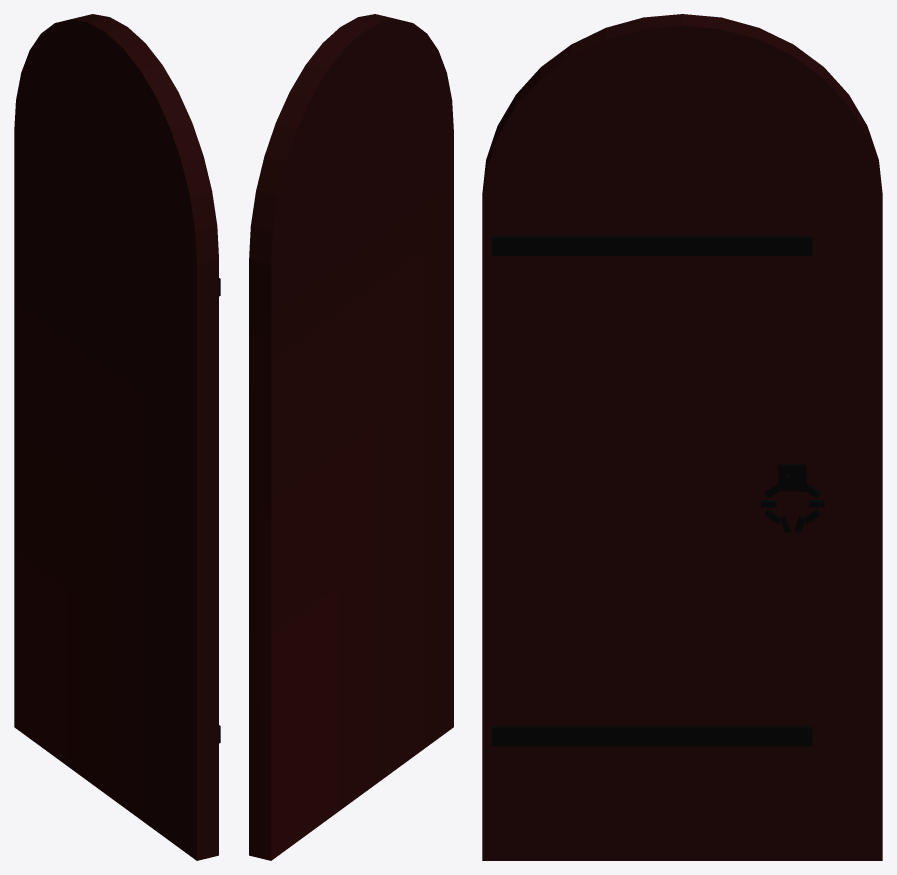
File: SilverbrookGoldenStagInn_Door2.fbx
The picture shows the model from 3 angles, left to right: view 1: azimuth 30°, elevation 25°; view 2: azimuth 150°, elevation 25°; view 3: azimuth 270°, elevation 25°; orthographic projection. The views are drawn at different scales.
Visible parts, largest first — view 1: SM_SBGoldenStagInn_Details_Door2_Part; view 2: SM_SBGoldenStagInn_Details_Door2_Part; view 3: SM_SBGoldenStagInn_Details_Door2_Part.
Boxes of the visible parts, x1,y1,x2,y2 form: SM_SBGoldenStagInn_Details_Door2_Part: (14,14,220,860); SM_SBGoldenStagInn_Details_Door2_Part: (249,14,453,860); SM_SBGoldenStagInn_Details_Door2_Part: (482,14,882,860).
Size of the model in its own units: 11.2 by 230 by 100.
